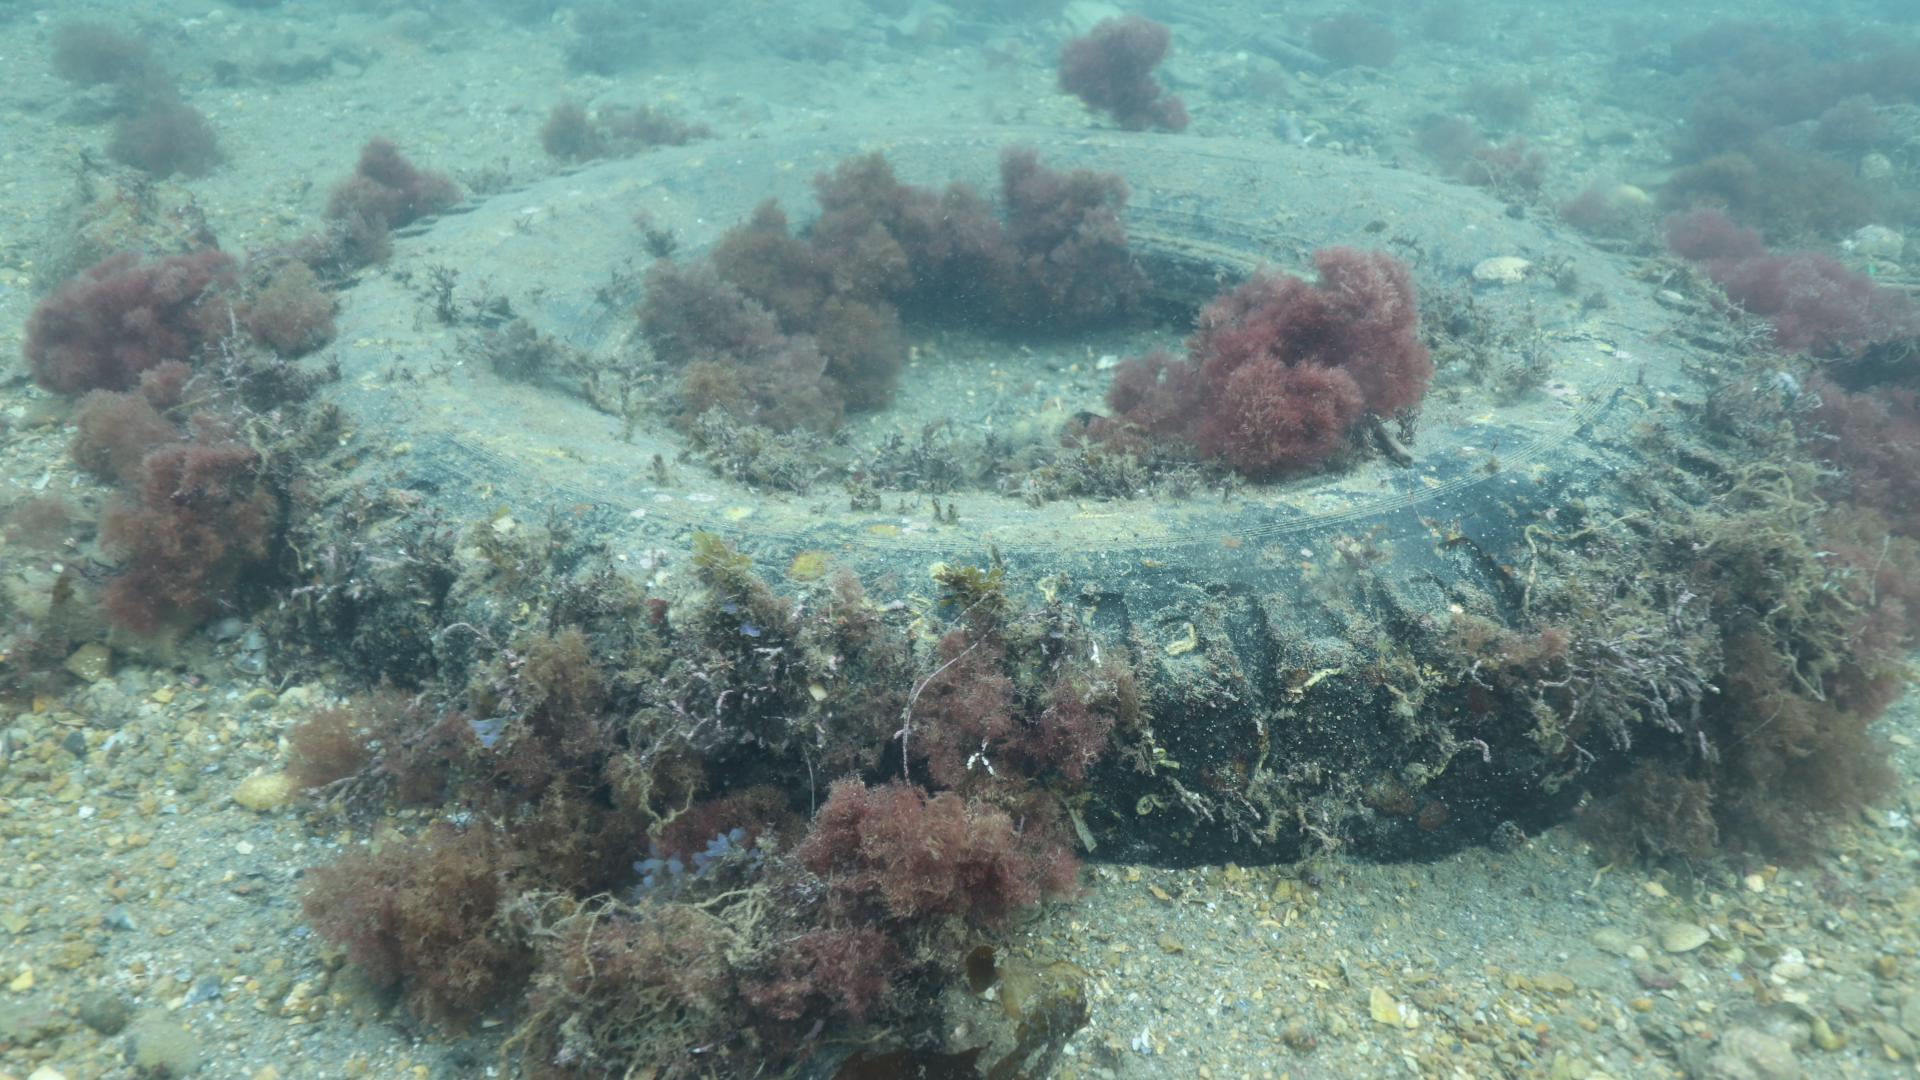tire: (284, 113, 1749, 858)
